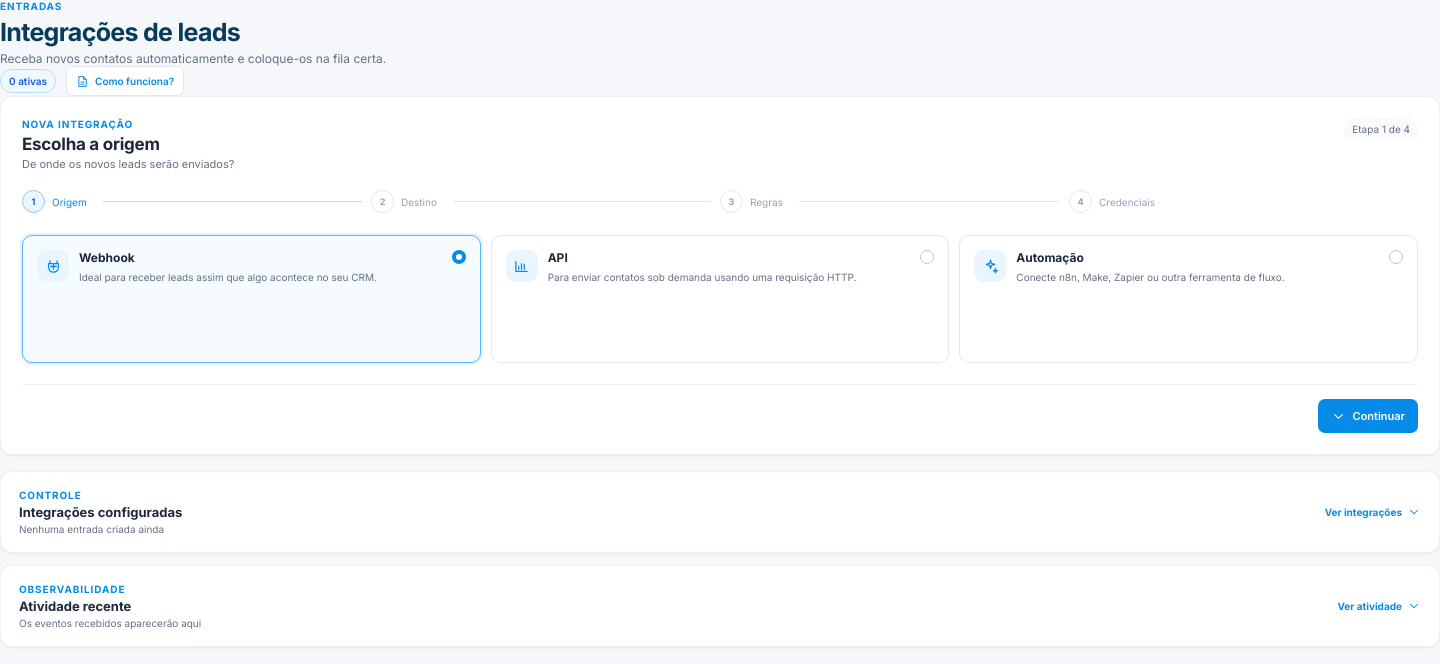
Test: LeadIntegrationsPage › reveals the setup progressively and creates an integration with one-time credentials
Expected: the heading "Escolha a origem" is shown, [22,134,160,154]
Expected: the text "Nenhuma integração configurada" is not shown
Click the button "Ver integrações" at (50, 495), box [1,472,1439,552]
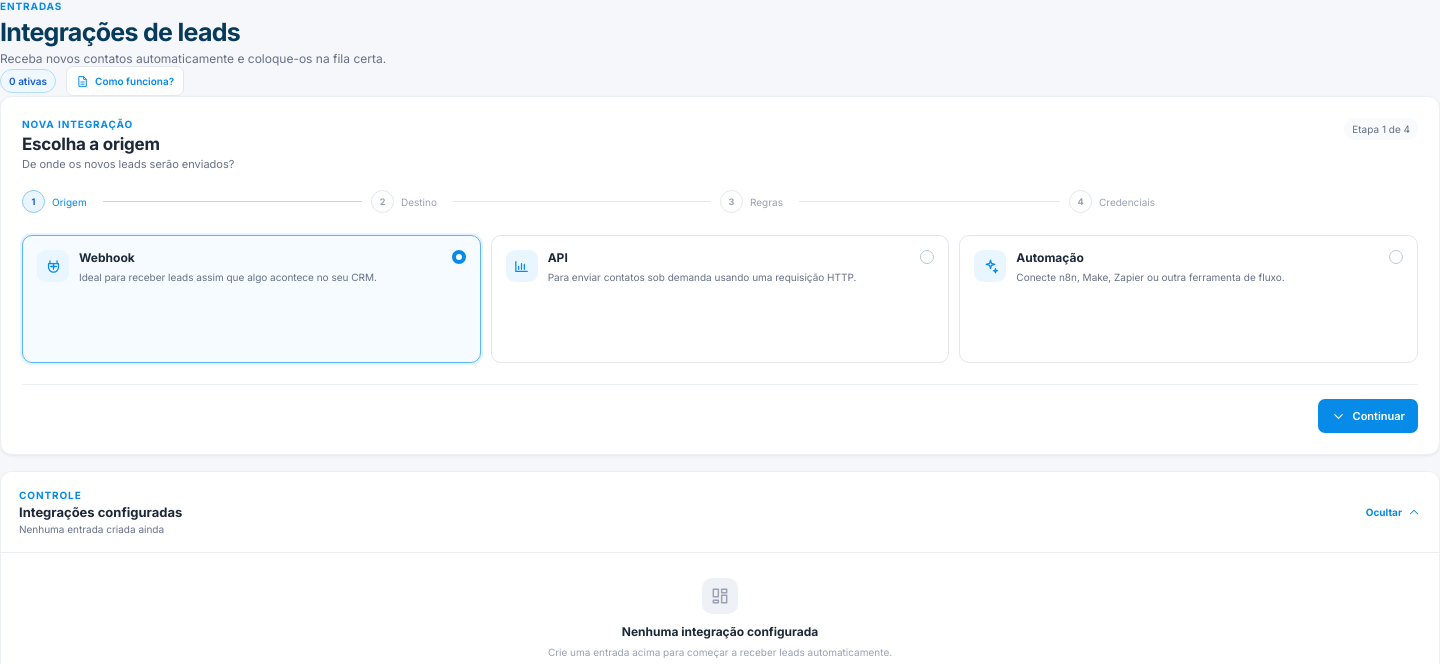
Expected: the text "Nenhuma entrada criada ainda" is shown, [19,523,182,535]
Click the button "Continuar" at (1368, 416), box [1318,399,1418,433]
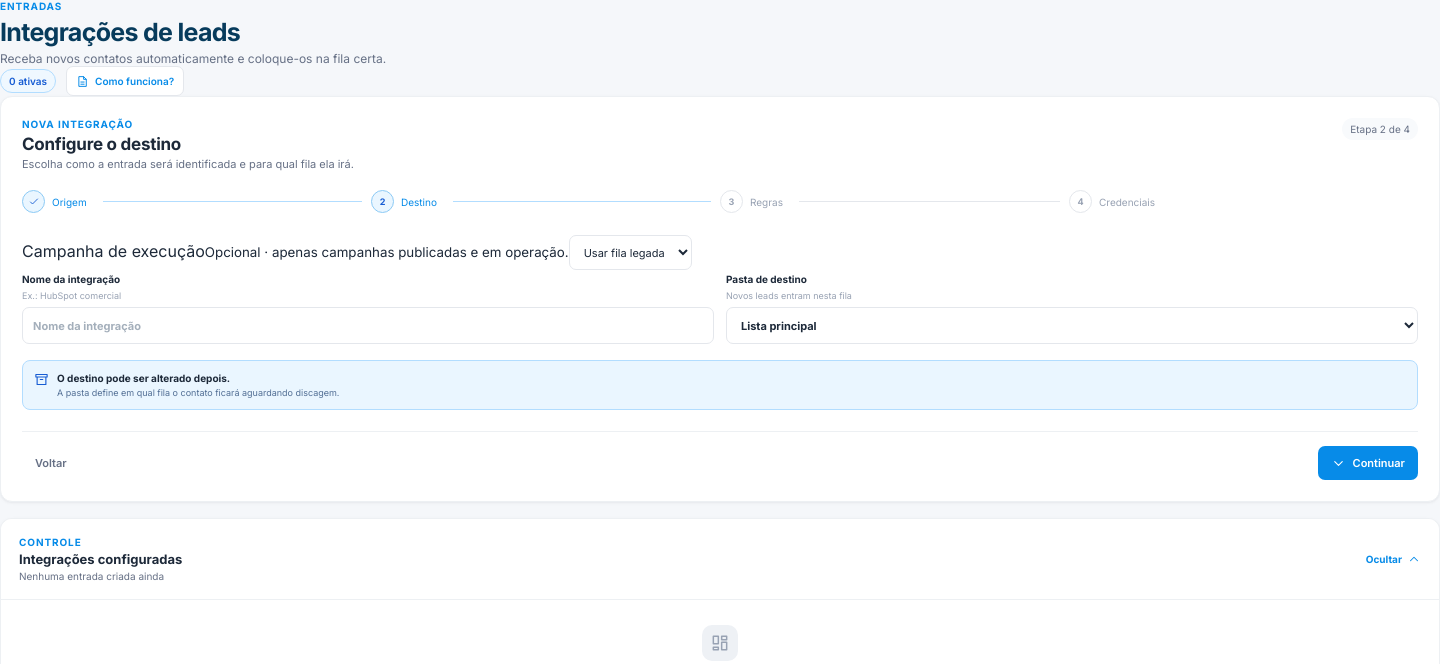
Expected: the heading "Configure o destino" is shown, [22,134,181,154]
Type "CRM principal" into the field with placeholder "Nome da integração" at (368, 326), box [22,307,714,344]
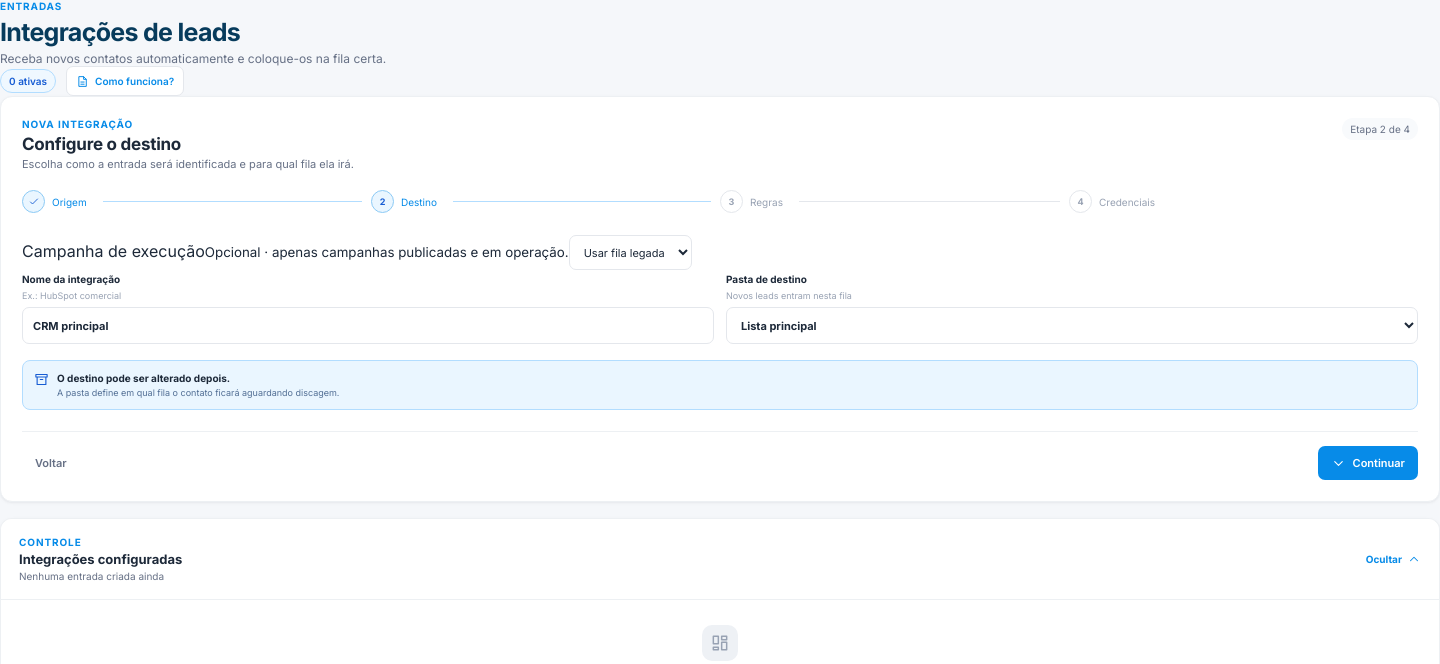
Click the button "Continuar" at (1368, 463), box [1318,446,1418,480]
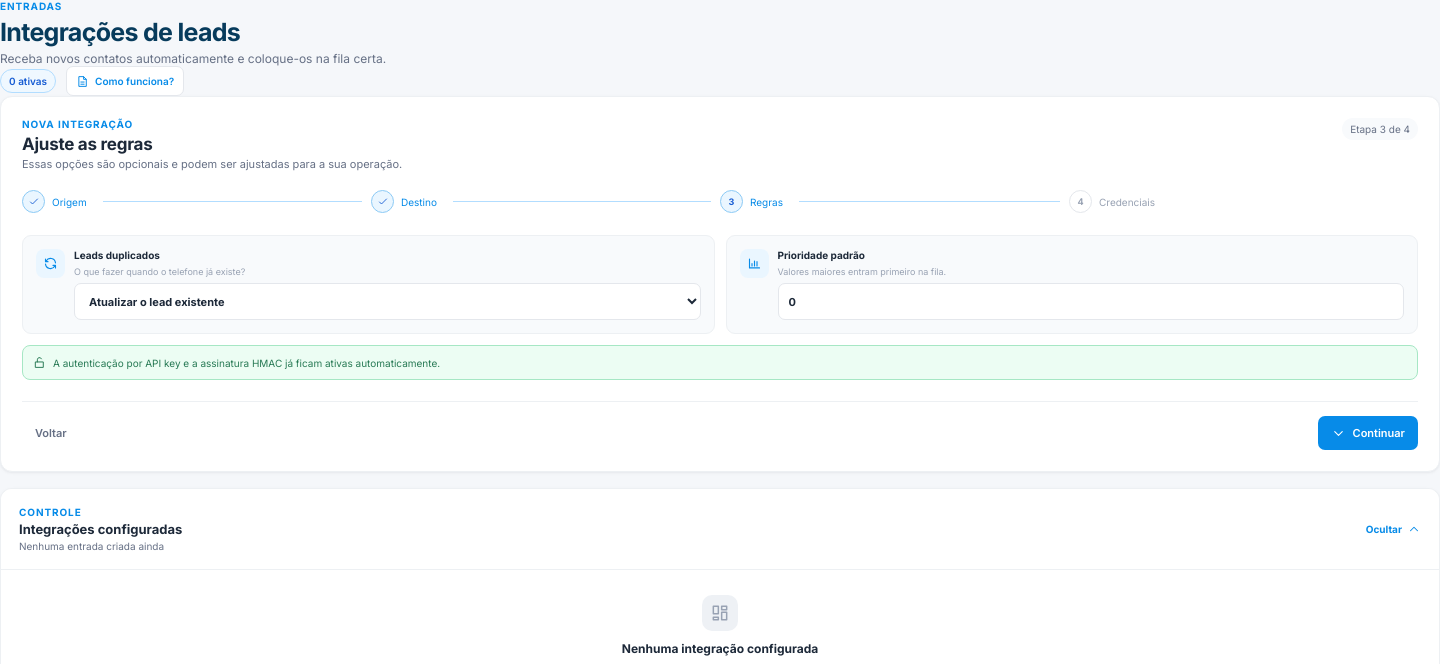
Expected: the heading "Ajuste as regras" is shown, [22,134,152,154]
Click the button "Continuar" at (1368, 433), box [1318,416,1418,450]
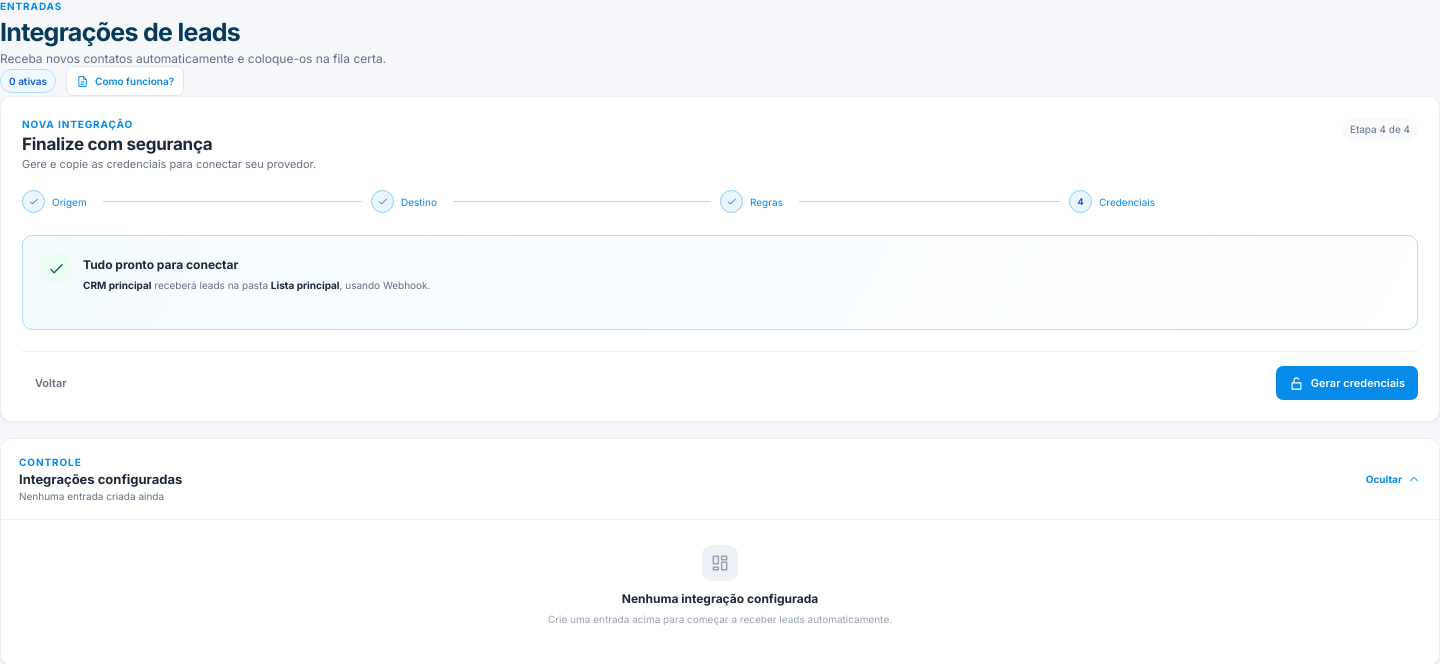
Expected: the heading "Finalize com segurança" is shown, [22,134,212,154]
Click the button "Gerar credenciais" at (1347, 383), box [1276,366,1418,400]
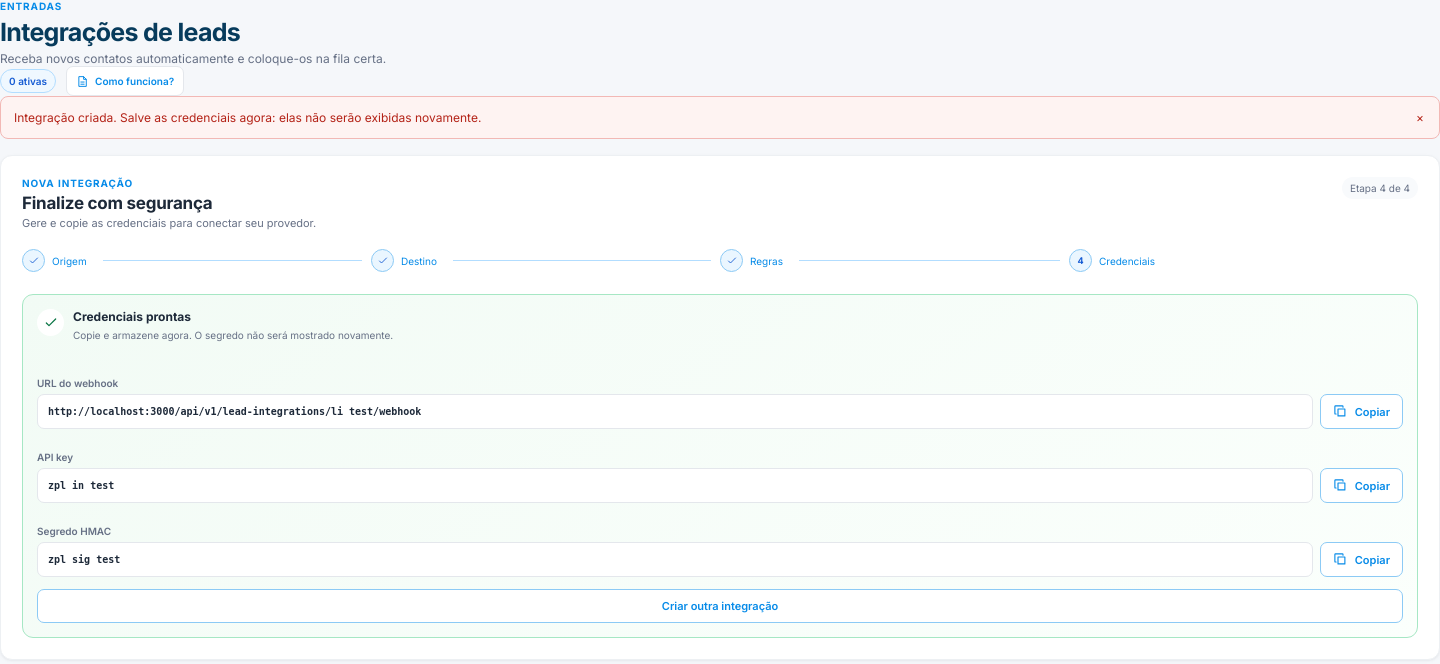
Expected: the text "Credenciais prontas" is shown, [73,309,191,324]
Expected: the field showing "zpl_in_test" is shown, [37,468,1313,503]
Expected: the field showing "http://localhost:3000/api/v1/lead-integrations/li_test/webhook" is shown, [37,394,1313,429]
